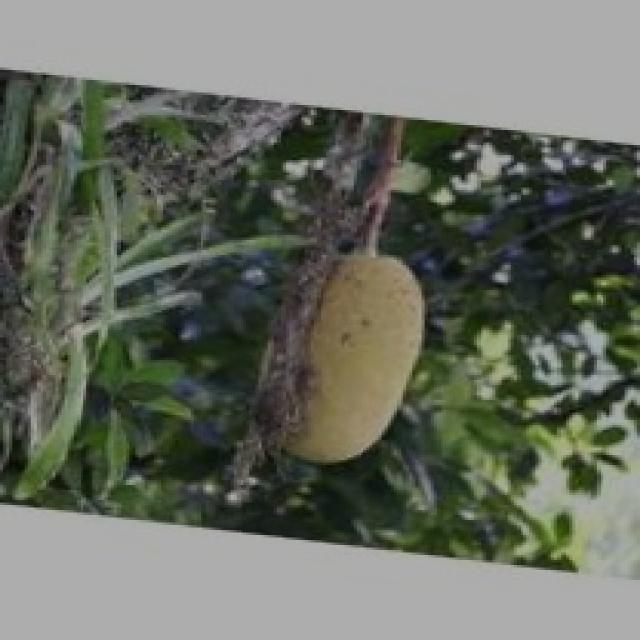Fruit: (243, 223, 465, 495)
